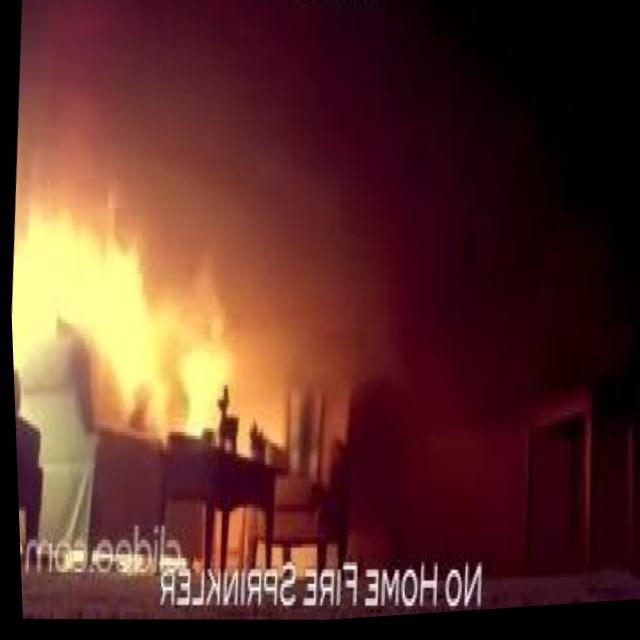fire: (6, 192, 179, 348), (86, 234, 178, 426), (169, 305, 230, 437)
